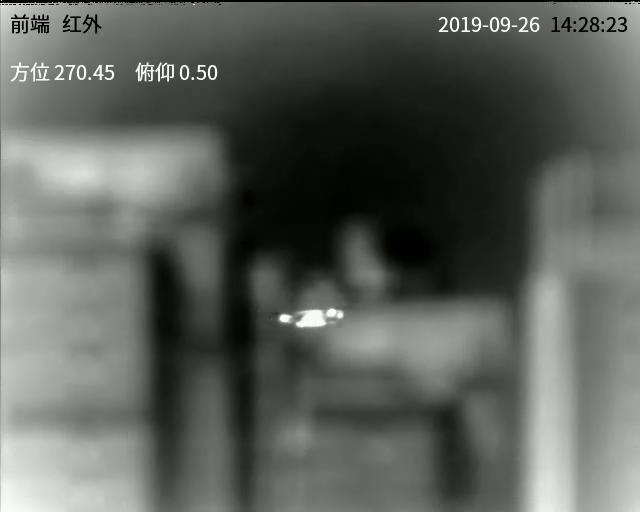uav: (273, 306, 348, 332)
